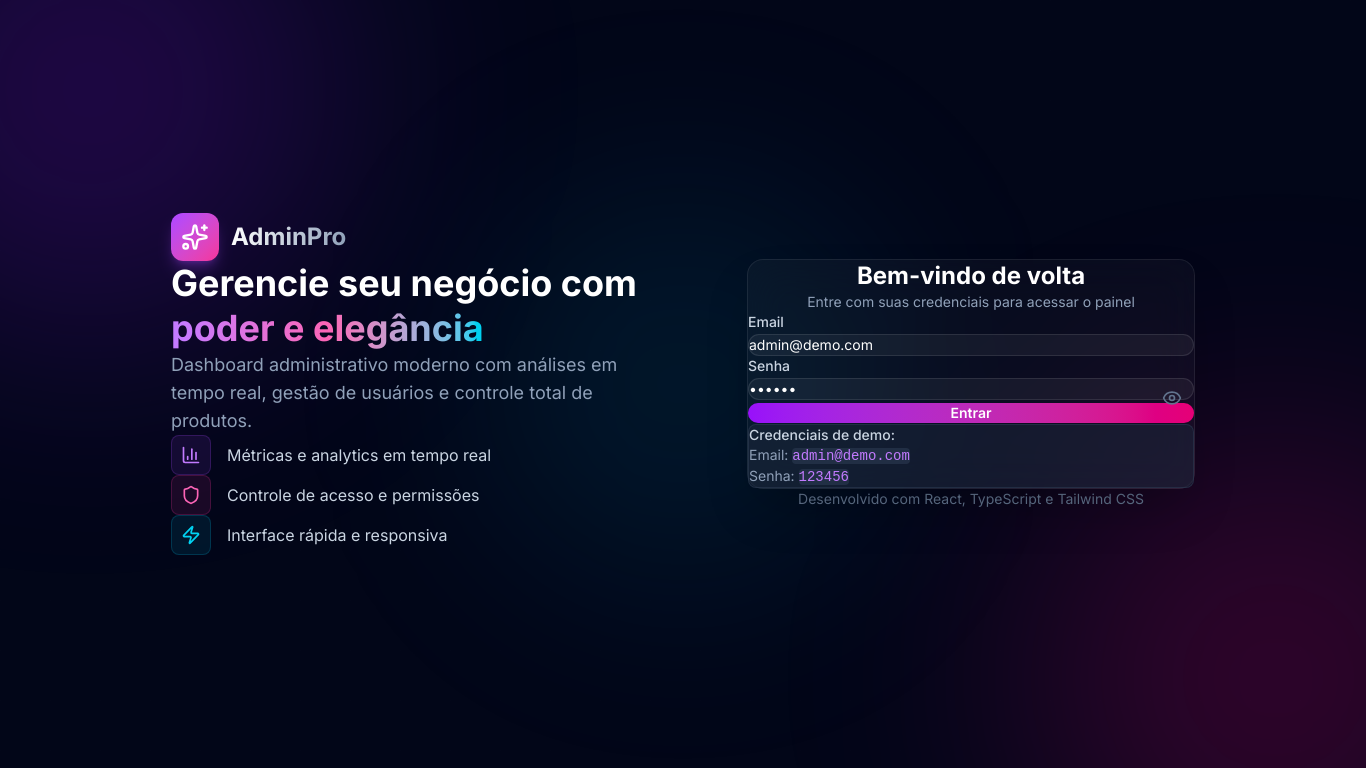
Test: LoginPage › toggles password visibility
The width and height of the screenshot is (1366, 768).
Click the button named "mostrar senha".
click(1172, 398)  # box top-left (1162, 388), bottom-right (1182, 408)
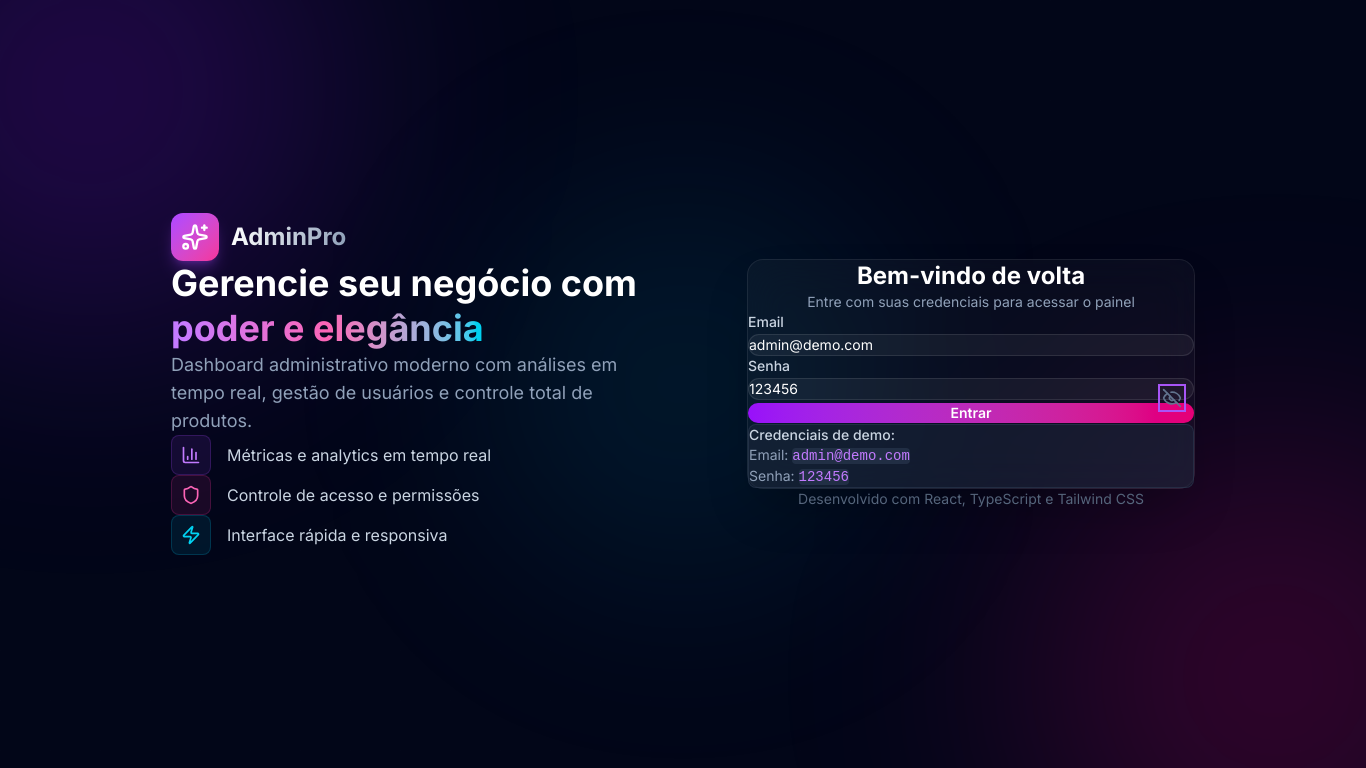
Expected: the field labelled "Senha" shows its text, top-left (748, 378), bottom-right (1194, 400)
Click the button named "mostrar senha".
click(1172, 398)  # box top-left (1162, 388), bottom-right (1182, 408)
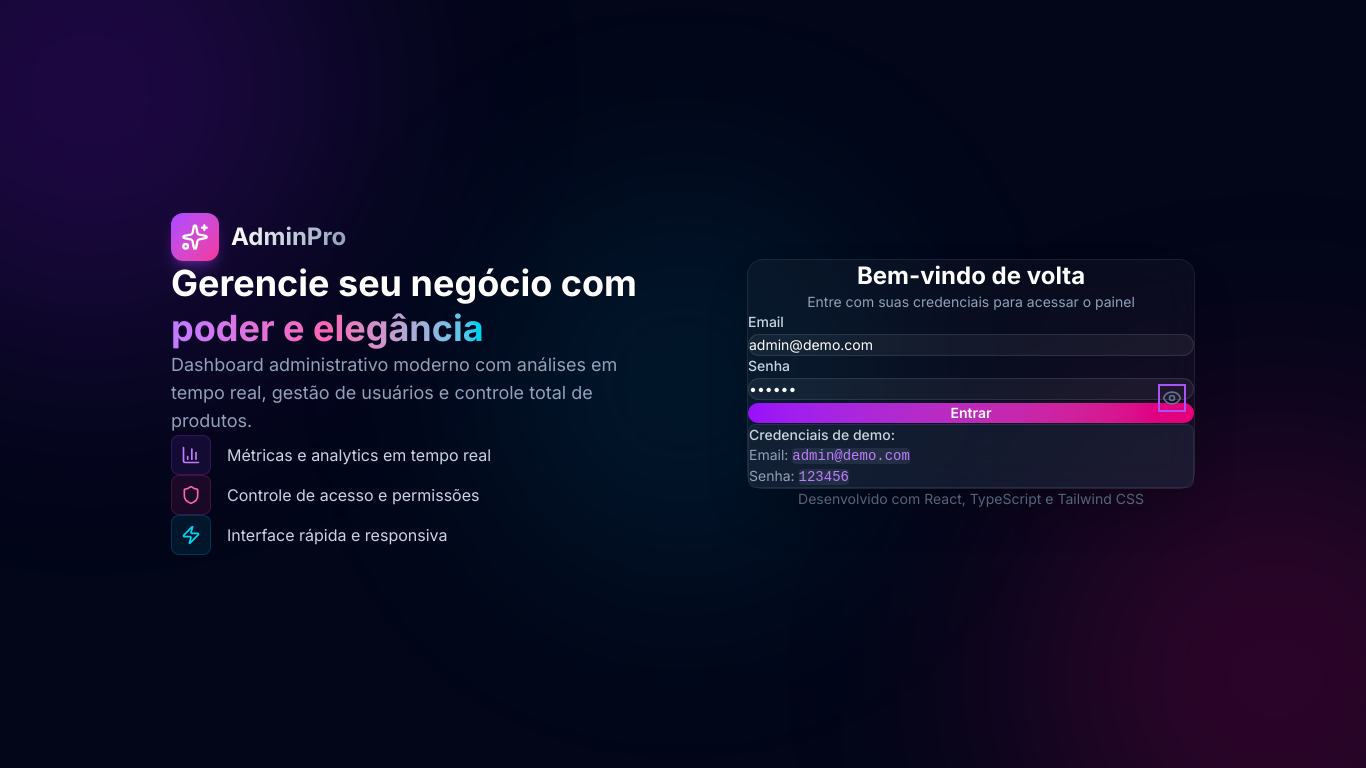
Expected: the password field labelled "Senha" hides its text, top-left (748, 378), bottom-right (1194, 400)
